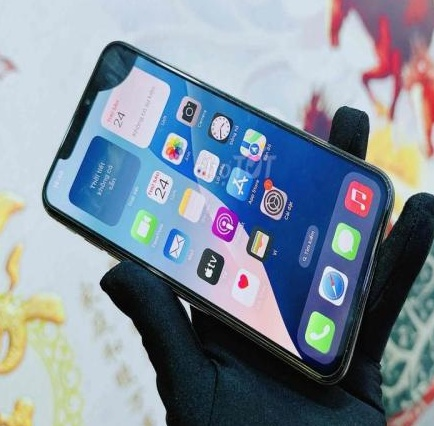scratch: (233, 90, 337, 150), (346, 141, 398, 213), (341, 312, 360, 365)
